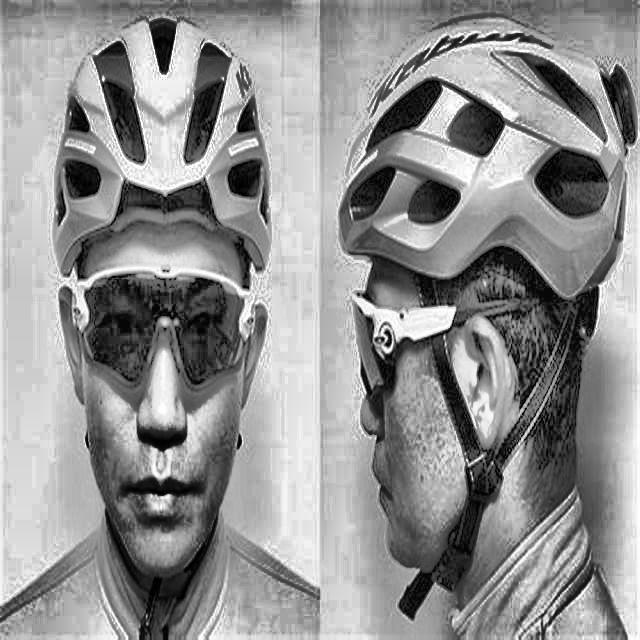Helmet: (335, 11, 638, 598), (49, 9, 272, 584)
